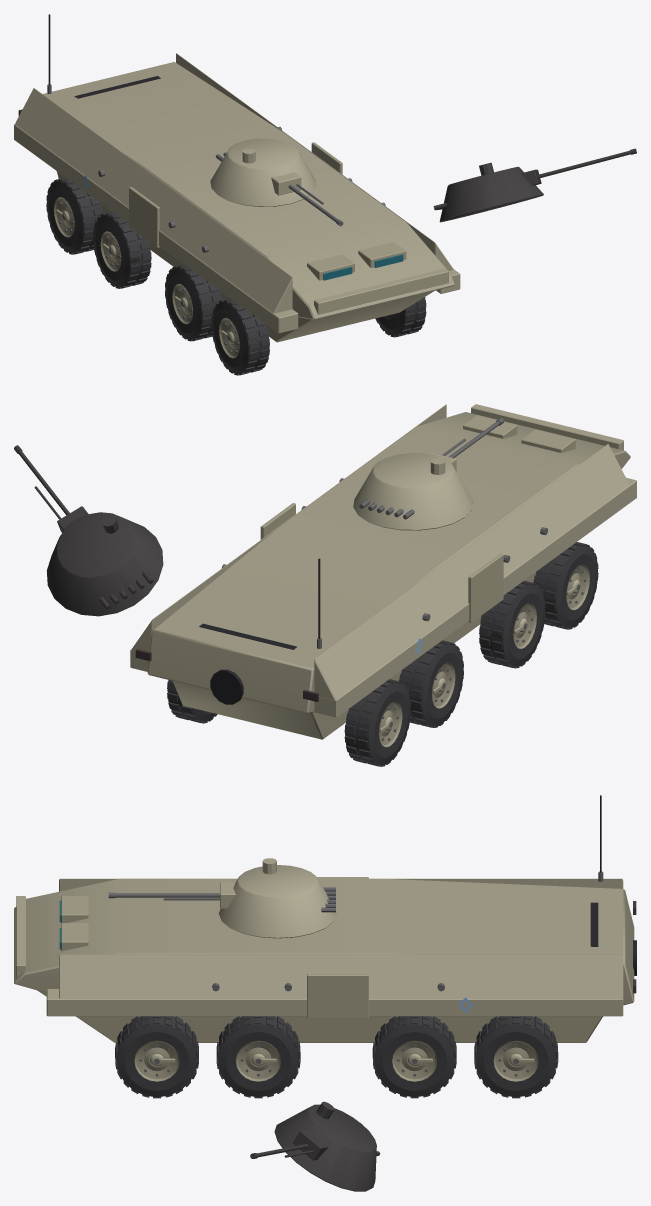
Rendered from apc__btr_60_bmp_1.glb.
3 renders of one model, top to bottom at view 1: azimuth 30°, elevation 25°; view 2: azimuth 150°, elevation 25°; view 3: azimuth 270°, elevation 25°, orthographic. The views are drawn at different scales.
Parts seen in each view (by area): view 1: Hull_Mesh, Turret_Mesh, Wreck, Wheel_L3_Mesh, Wheel_L1_Mesh, Wheel_L0_Mesh, Wheel_L2_Mesh, Wheel_R3_Mesh, Gun_Mesh; view 2: Hull_Mesh, Wreck, Turret_Mesh, Wheel_L0_Mesh, Wheel_L2_Mesh, Wheel_L3_Mesh, Wheel_L1_Mesh, Wheel_R0_Mesh, Gun_Mesh; view 3: Hull_Mesh, Turret_Mesh, Wreck, Wheel_R2_Mesh, Wheel_R1_Mesh, Wheel_R0_Mesh, Wheel_R3_Mesh, Gun_Mesh.
Boxes of the visible parts, x1,y1,x2,y2 form: Hull_Mesh: [14, 14, 460, 342]; Turret_Mesh: [210, 138, 316, 206]; Wreck: [54, 148, 636, 373]; Wheel_L3_Mesh: [211, 298, 269, 375]; Wheel_L1_Mesh: [93, 211, 151, 288]; Wheel_L0_Mesh: [46, 177, 103, 254]; Wheel_L2_Mesh: [165, 264, 221, 341]; Wheel_R3_Mesh: [375, 297, 426, 337]; Gun_Mesh: [271, 172, 343, 226]; Hull_Mesh: [130, 404, 636, 739]; Wreck: [14, 445, 594, 763]; Turret_Mesh: [353, 453, 473, 530]; Wheel_L0_Mesh: [344, 679, 410, 766]; Wheel_L2_Mesh: [479, 580, 545, 668]; Wheel_L3_Mesh: [533, 542, 598, 629]; Wheel_L1_Mesh: [399, 640, 463, 727]; Wheel_R0_Mesh: [167, 680, 217, 723]; Gun_Mesh: [429, 418, 504, 471]; Hull_Mesh: [14, 795, 636, 1042]; Turret_Mesh: [218, 858, 336, 938]; Wreck: [124, 1082, 487, 1191]; Wheel_R2_Mesh: [216, 1016, 300, 1098]; Wheel_R1_Mesh: [372, 1016, 456, 1098]; Wheel_R0_Mesh: [474, 1016, 558, 1098]; Wheel_R3_Mesh: [115, 1016, 198, 1098]; Gun_Mesh: [108, 882, 235, 908].
Size of what is drawn, in the model's own units: 7.11 by 3.03 by 7.74.
